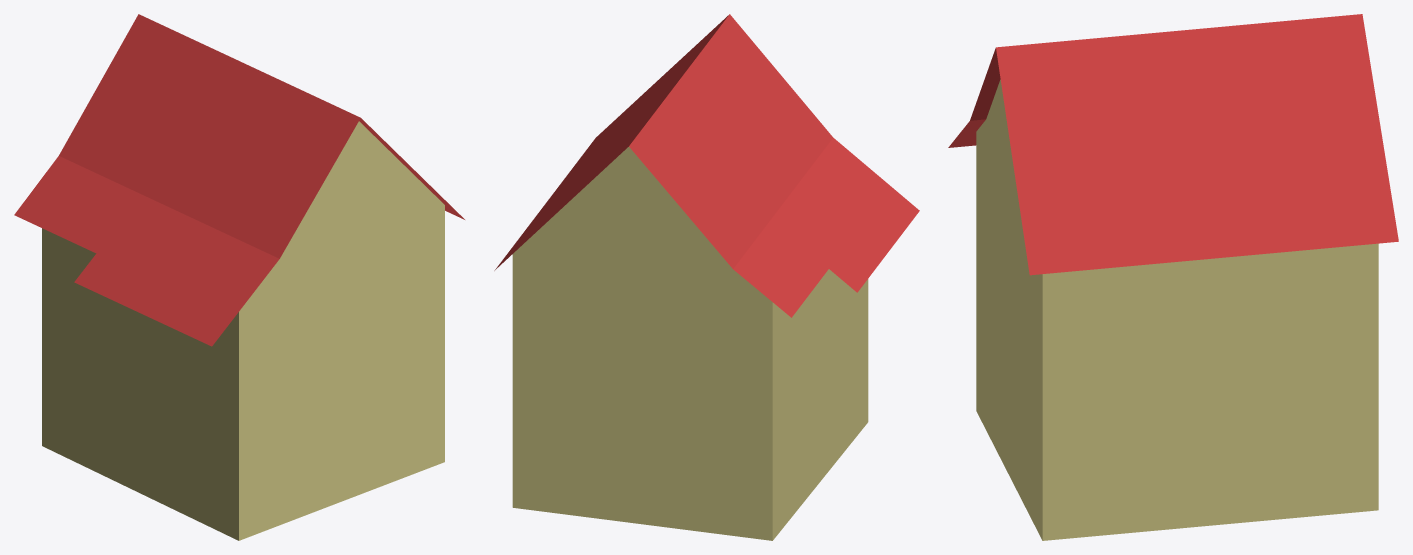
3 views of the same model, side by side, from view 1: azimuth 30°, elevation 25°; view 2: azimuth 150°, elevation 25°; view 3: azimuth 270°, elevation 25° (orthographic). The views are drawn at different scales.
Bounding box in the file's own units: 12.74 × 13.42 × 14.31.
